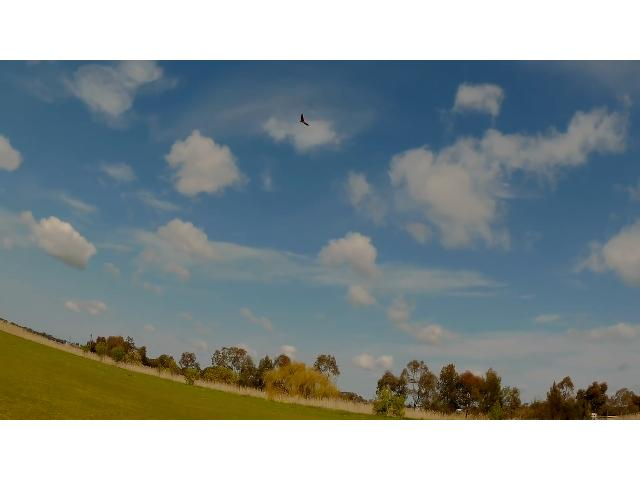Anti-Drone: (300, 112, 310, 128)
